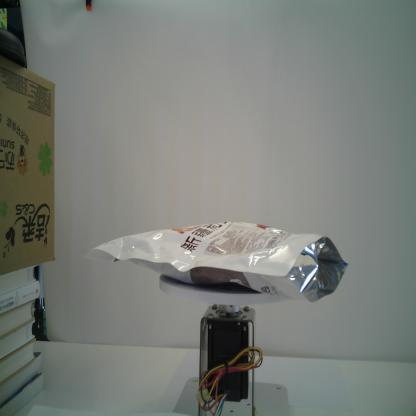Dried Food: (87, 219, 352, 307)
